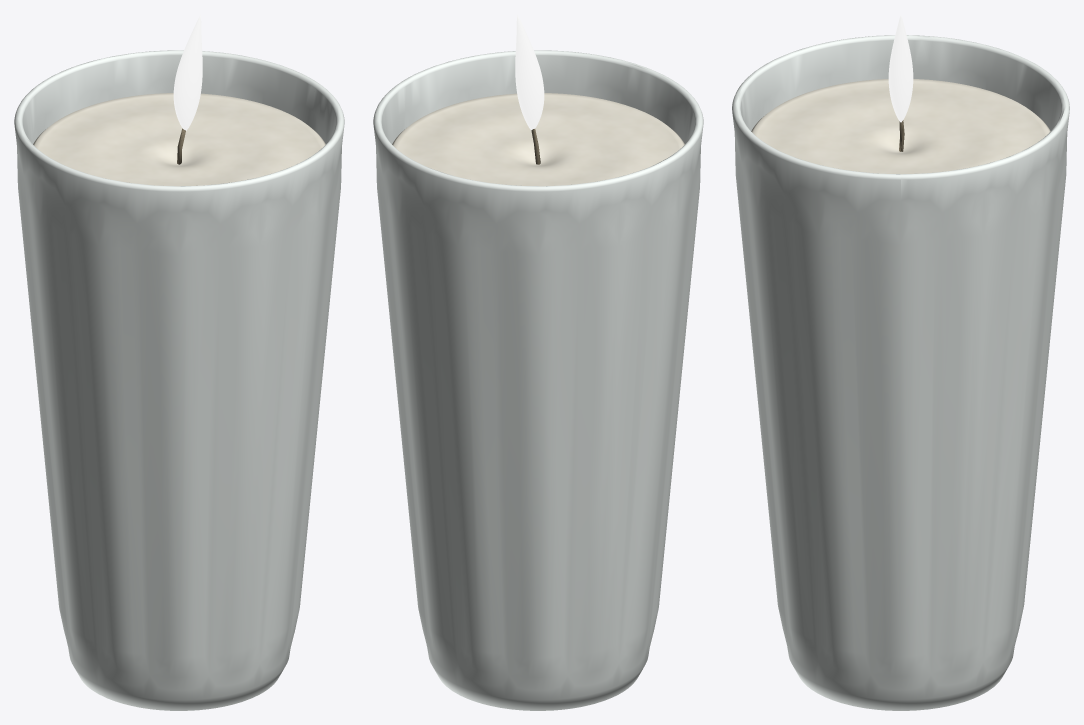
The model's file is veladora_1.gltf.
3 views of the same model, side by side, from view 1: azimuth 30°, elevation 25°; view 2: azimuth 150°, elevation 25°; view 3: azimuth 270°, elevation 25° (orthographic). The views are drawn at different scales.
Parts seen in each view (by area): view 1: vaso, cera, llama_1; view 2: vaso, cera, llama_1; view 3: vaso, cera, llama_1.
Boxes of the visible parts, bbox=[...] form: vaso: bbox=[14, 50, 344, 710]; cera: bbox=[33, 93, 325, 186]; llama_1: bbox=[173, 14, 202, 130]; vaso: bbox=[373, 50, 703, 710]; cera: bbox=[392, 93, 684, 186]; llama_1: bbox=[515, 14, 544, 130]; vaso: bbox=[732, 35, 1069, 710]; cera: bbox=[751, 79, 1050, 174]; llama_1: bbox=[888, 15, 913, 122].
Size of the model in its own units: 0.084 by 0.182 by 0.084.
4 materials, 3 textured.
